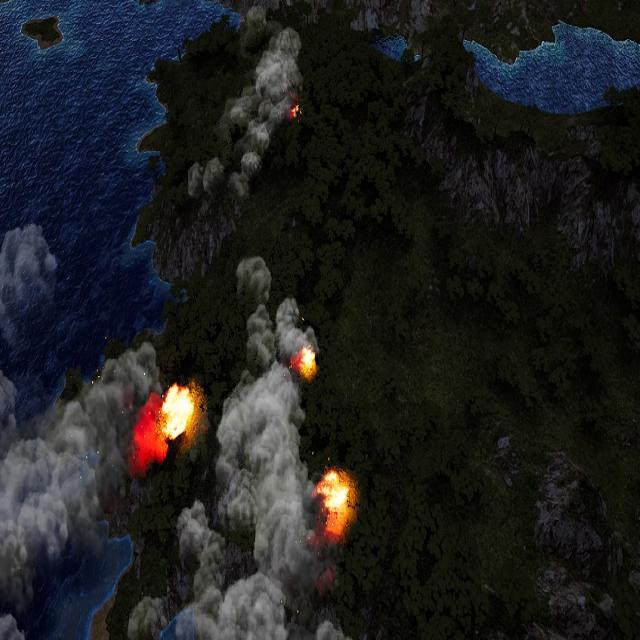fire: (159, 377, 202, 443), (318, 465, 354, 510), (296, 350, 314, 376), (293, 103, 305, 119)
smoke: (178, 251, 346, 640), (0, 340, 164, 639), (189, 29, 301, 196), (0, 217, 61, 335)
